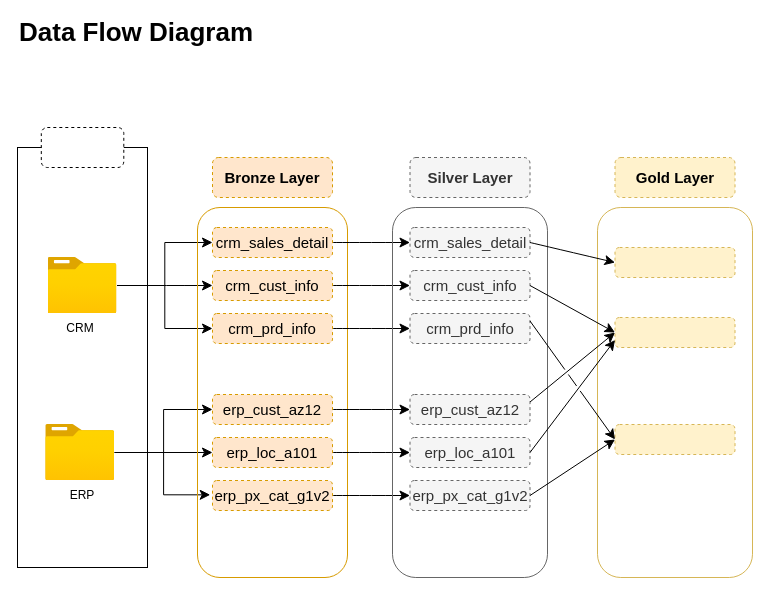
The diagram is 770 pixels wide and 595 high, and some of its shapes have lost their labels. Each missing label, with the box of its shape:
dim_customers: (614, 316, 735, 348)
dim_products: (614, 424, 735, 454)
fact_sales: (614, 246, 735, 278)
Source: (40, 126, 124, 168)
